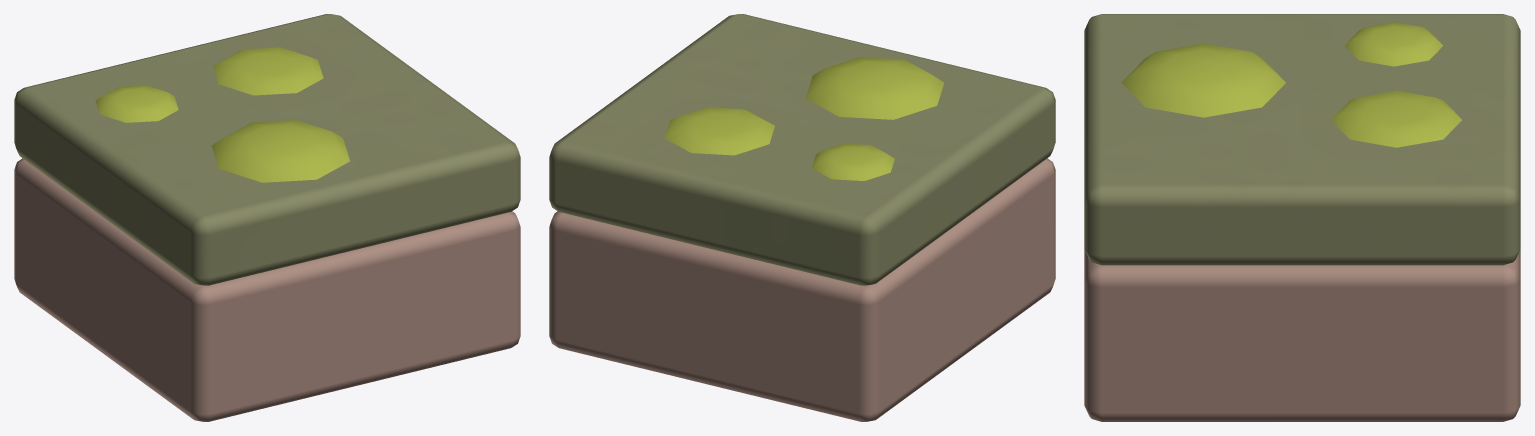
Rendered from cube_with_swamp.03.glb.
3 renders of one model, left to right at view 1: azimuth 30°, elevation 25°; view 2: azimuth 150°, elevation 25°; view 3: azimuth 270°, elevation 25°, orthographic. The views are drawn at different scales.
Visible parts, largest first — view 1: Cube.258; view 2: Cube.258; view 3: Cube.258.
Boxes of the visible parts, left/top/right/bottom form: Cube.258: left=14, top=14, right=520, bottom=421; Cube.258: left=549, top=14, right=1055, bottom=421; Cube.258: left=1084, top=14, right=1520, bottom=421.
Bounding box in the file's own units: 1 × 0.6498 × 1.
Materials: 1 (1 with a texture image).
